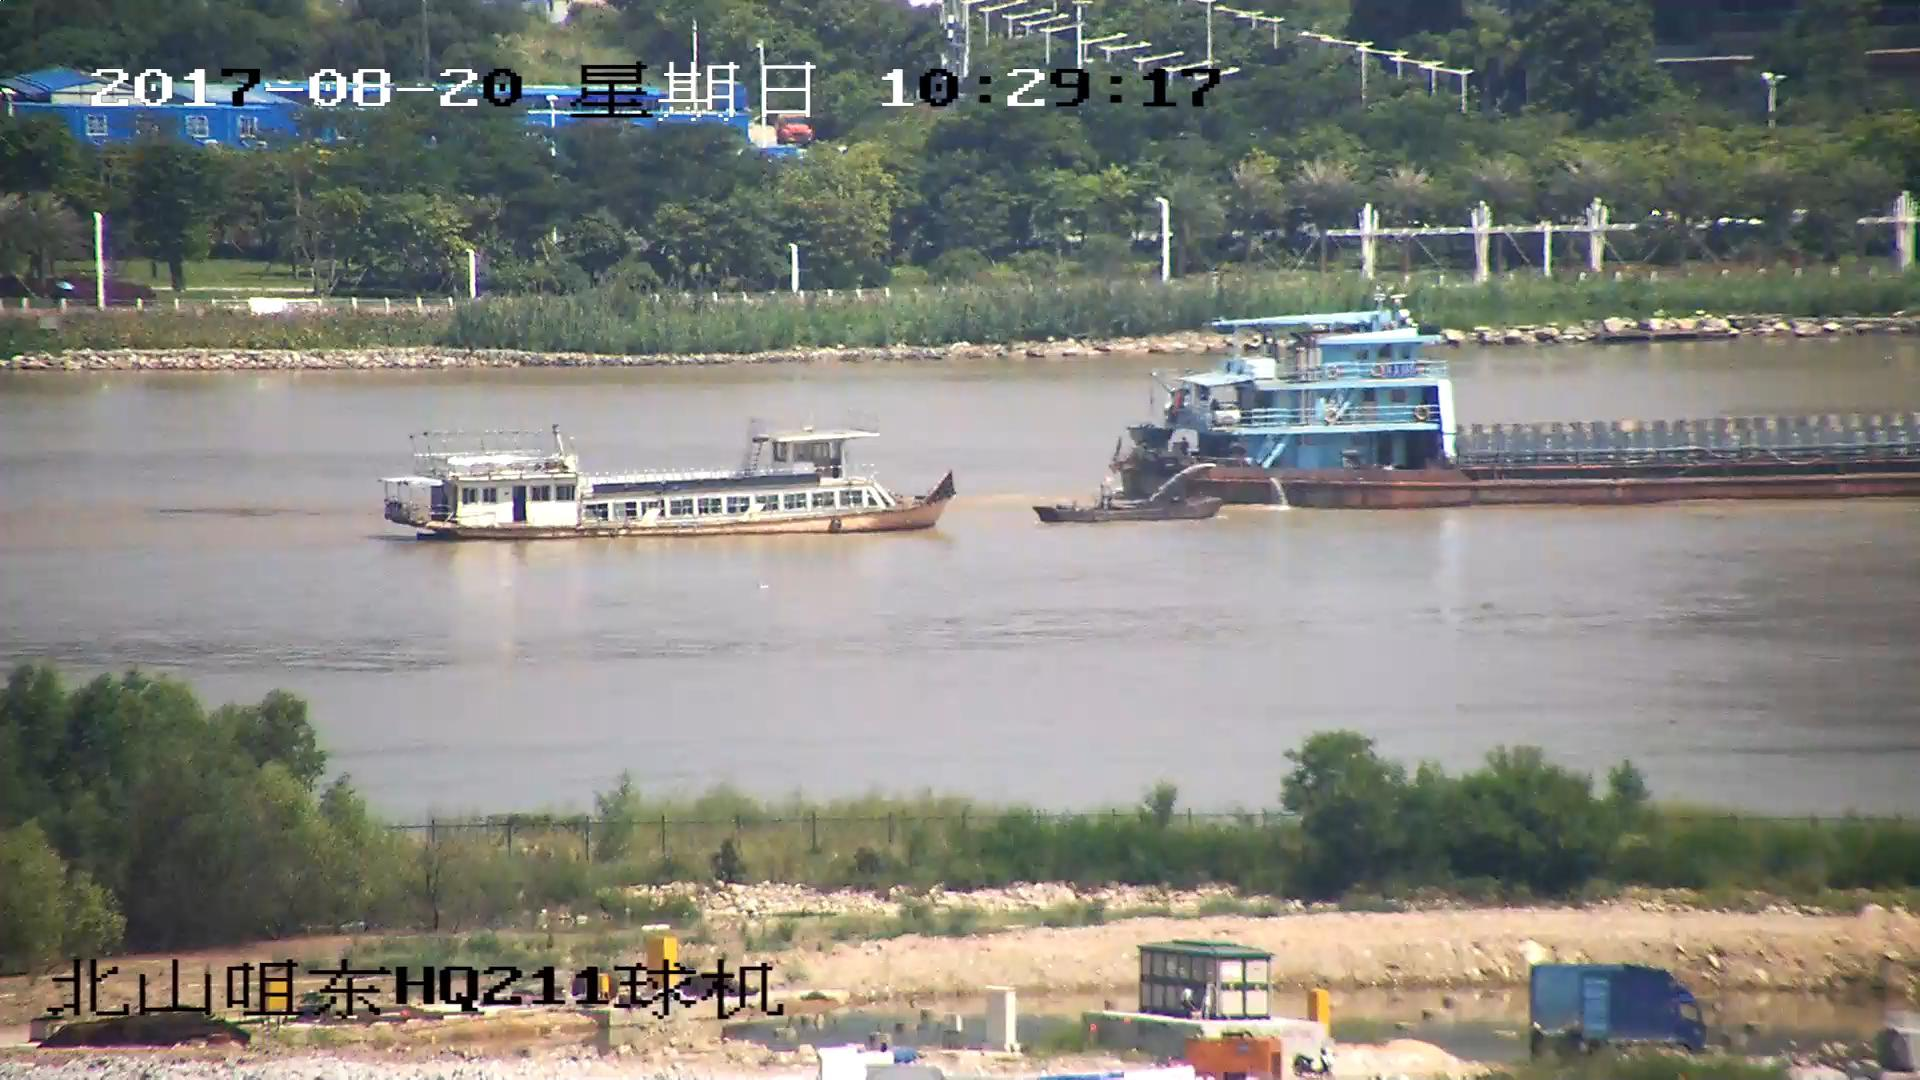Ship: (1102, 305, 1920, 506), (382, 421, 963, 541), (1036, 469, 1226, 527)
